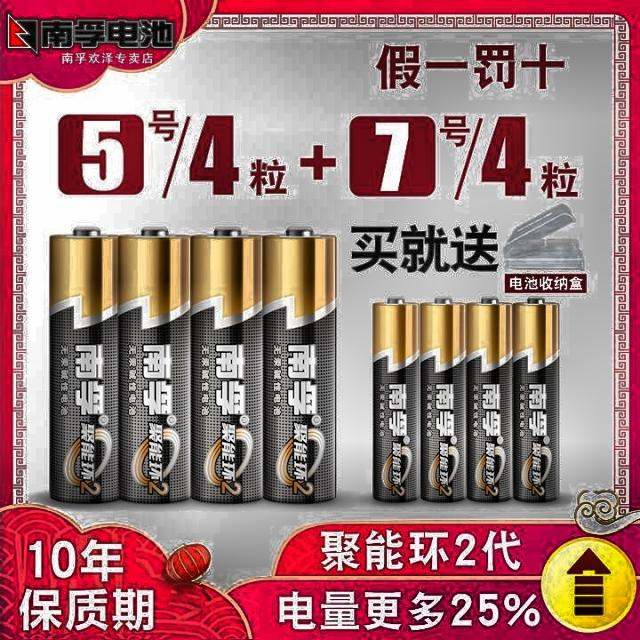Non-Valuable Waste - Batteries: (118, 230, 190, 502), (264, 230, 336, 502), (191, 230, 262, 502), (50, 229, 119, 502), (372, 300, 420, 501), (420, 300, 466, 501), (514, 299, 559, 502), (468, 299, 512, 502)
